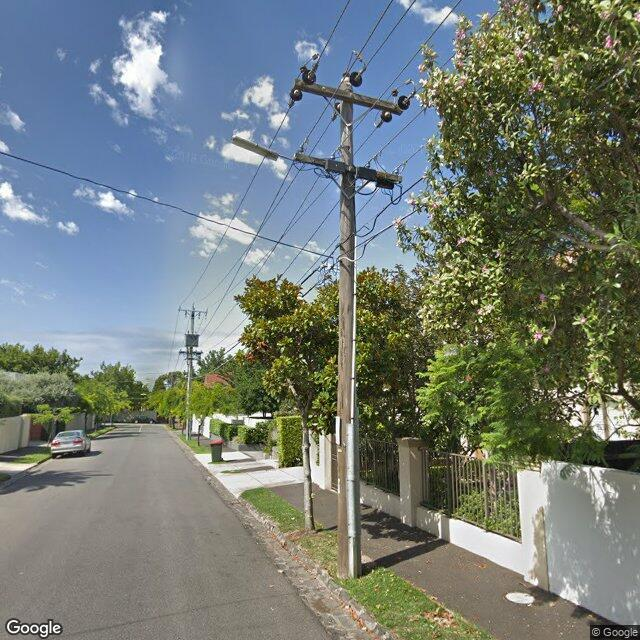HV-transmission: (287, 48, 416, 128), (178, 303, 208, 318)
crossarm: (294, 138, 408, 190), (295, 78, 404, 115), (178, 348, 202, 354), (178, 308, 206, 312)
streetlight: (231, 134, 294, 163)
timber-pole: (337, 75, 361, 580), (186, 303, 195, 440)
transformer: (185, 331, 199, 346)
